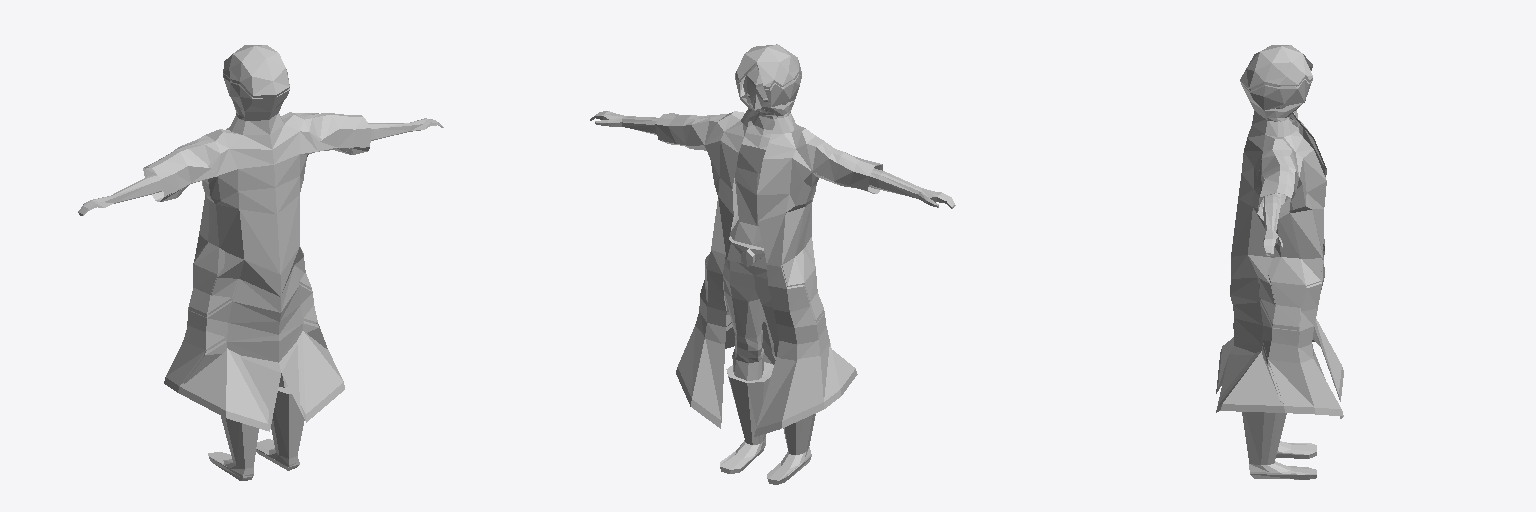
The model's file is Humano_Principal_Ropa.obj.
3 renders of one model, left to right at view 1: azimuth 30°, elevation 25°; view 2: azimuth 150°, elevation 25°; view 3: azimuth 270°, elevation 25°, orthographic.
Visible parts, largest first — view 1: Plano.001_Plano.000, Plano_Plano.001; view 2: Plano.001_Plano.000, Plano_Plano.001; view 3: Plano.001_Plano.000, Plano_Plano.001.
Boxes of the visible parts, x1,y1,x2,y2 form: Plano.001_Plano.000: [143, 45, 370, 431]; Plano_Plano.001: [78, 118, 443, 480]; Plano.001_Plano.000: [655, 44, 882, 436]; Plano_Plano.001: [590, 66, 955, 484]; Plano.001_Plano.000: [1216, 45, 1343, 418]; Plano_Plano.001: [1242, 100, 1316, 479].
Bounding box in the file's own units: 10.44 × 11.57 × 3.21.